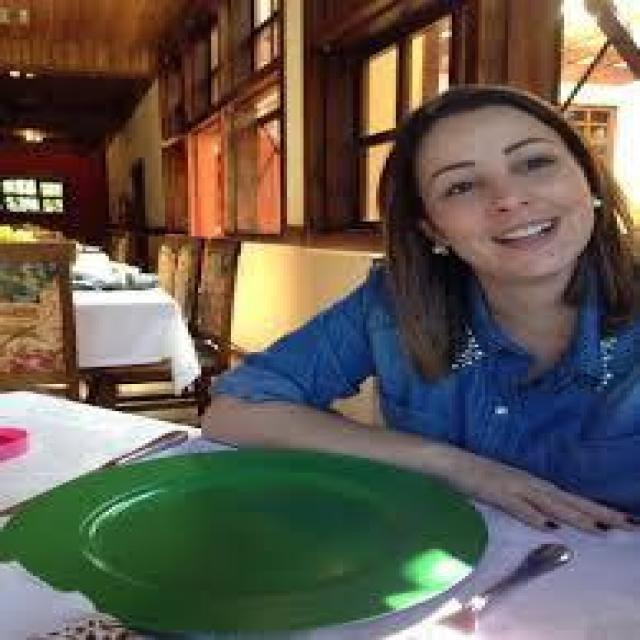person: (208, 86, 637, 544)
